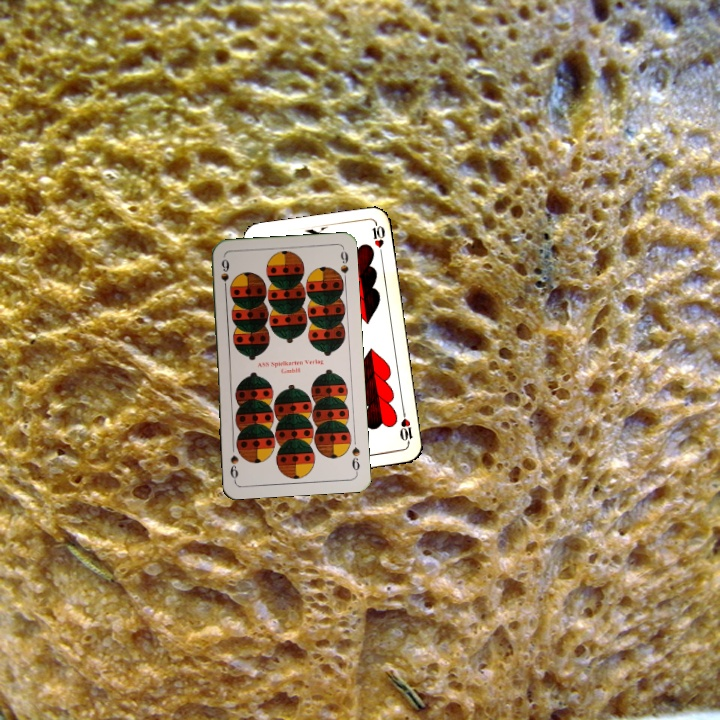H10: (396, 408, 415, 448)
S9: (217, 255, 232, 295), (348, 443, 362, 476)
